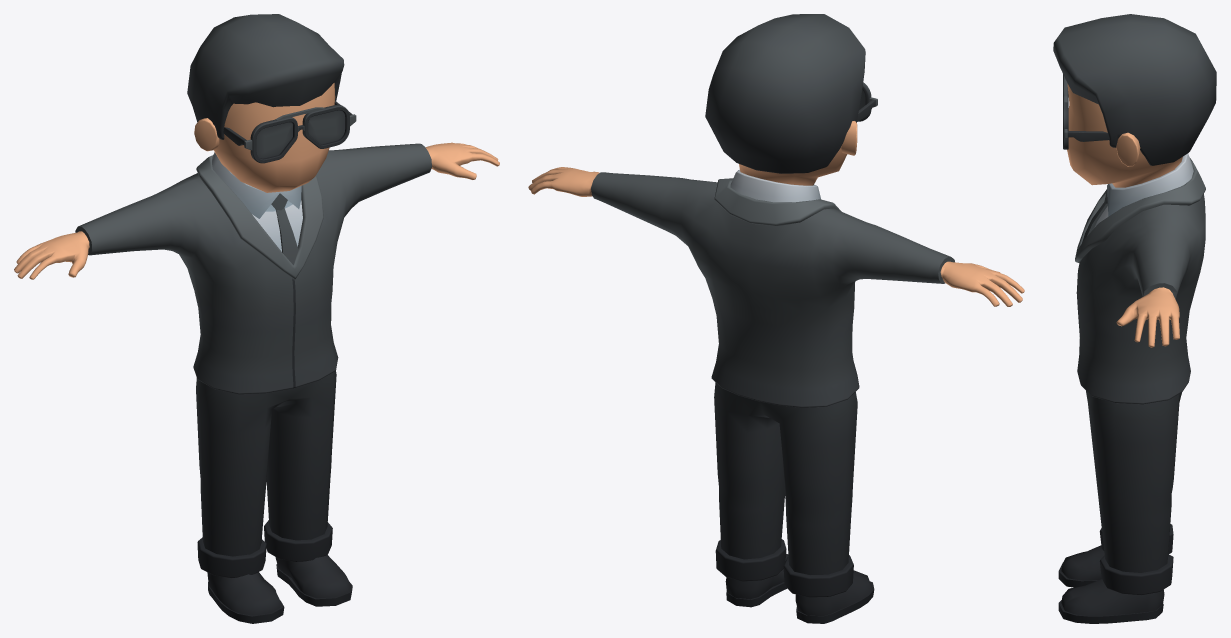
File: Gangsta_Cha_01.fbx
3 views of the same model, side by side, from view 1: azimuth 30°, elevation 25°; view 2: azimuth 150°, elevation 25°; view 3: azimuth 270°, elevation 25° (orthographic). The views are drawn at different scales.
Visible parts, largest first — view 1: Gangsta_Cha_01_Geo; view 2: Gangsta_Cha_01_Geo; view 3: Gangsta_Cha_01_Geo.
Boxes of the visible parts, bbox=[...] form: Gangsta_Cha_01_Geo: bbox=[14, 14, 499, 623]; Gangsta_Cha_01_Geo: bbox=[528, 14, 1024, 623]; Gangsta_Cha_01_Geo: bbox=[1053, 14, 1216, 623].
Bounding box in the file's own units: 179 × 201 × 52.19.
